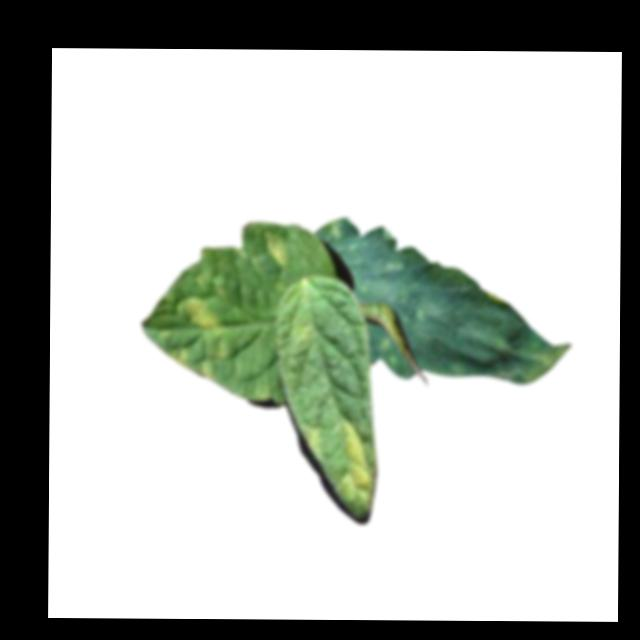Leaf_Mold: (316, 219, 576, 382), (332, 418, 376, 504), (182, 296, 222, 330), (266, 229, 295, 268)
